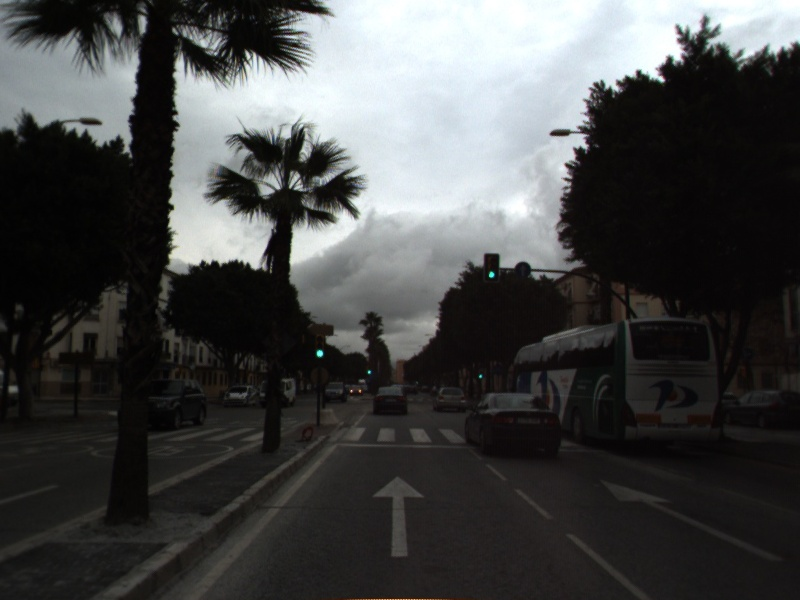STRAIGHT: (598, 477, 787, 563), (369, 473, 428, 559)
